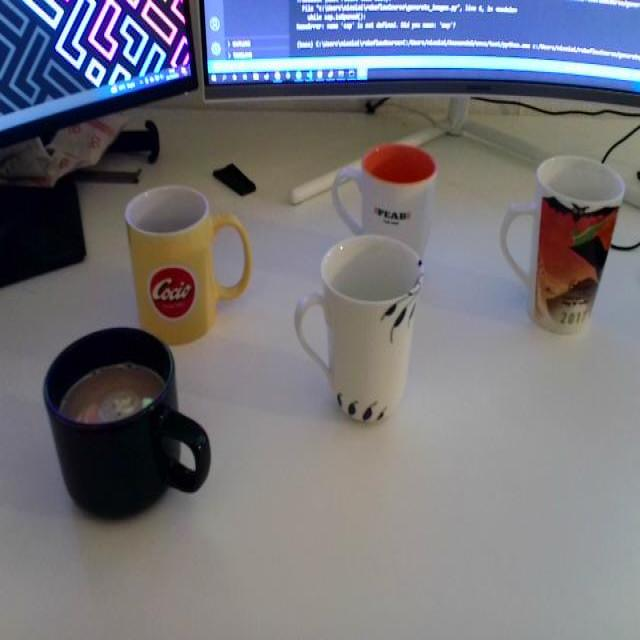cup: (29, 320, 219, 528), (294, 228, 434, 428), (115, 175, 257, 347), (501, 146, 625, 336), (324, 138, 435, 254)
